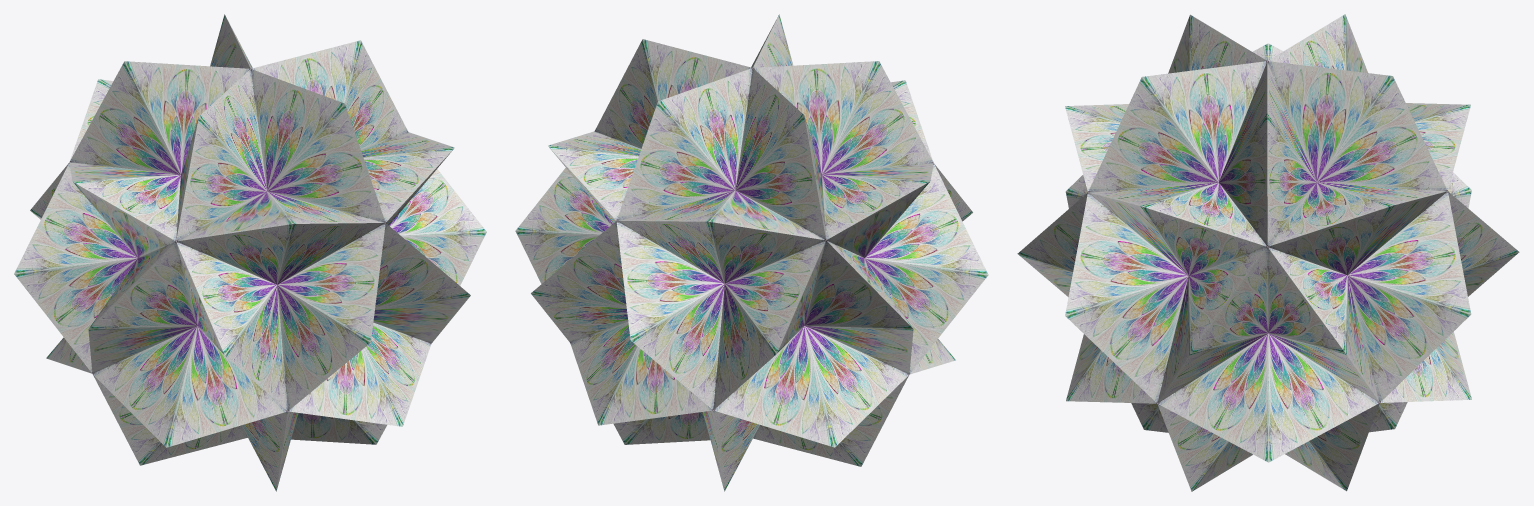
File: Mobius120a_11.obj
The picture shows the model from 3 angles, left to right: view 1: azimuth 30°, elevation 25°; view 2: azimuth 150°, elevation 25°; view 3: azimuth 270°, elevation 25°; orthographic projection. The views are drawn at different scales.
Bounding box in the file's own units: 3.62 × 3.25 × 3.8.
Materials: 1 (1 with a texture image).
